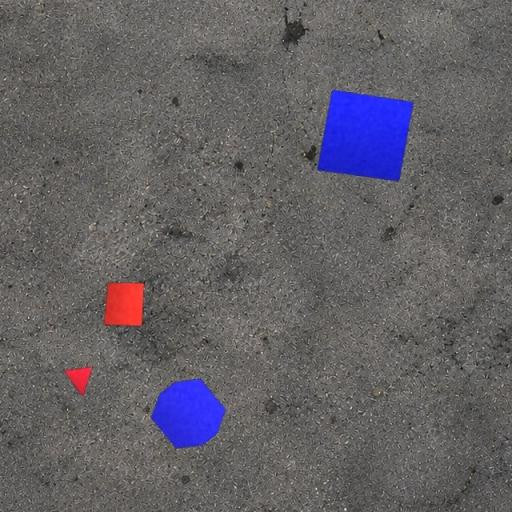BLUE_SQUARE: (316, 89, 414, 182)
RED_SQUARE: (103, 282, 145, 326)
